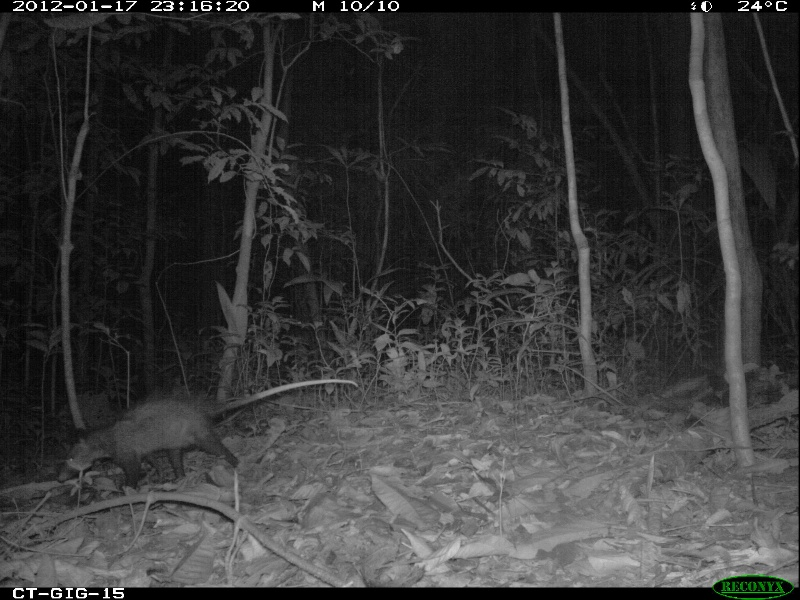opossum: (58, 356, 365, 500)
